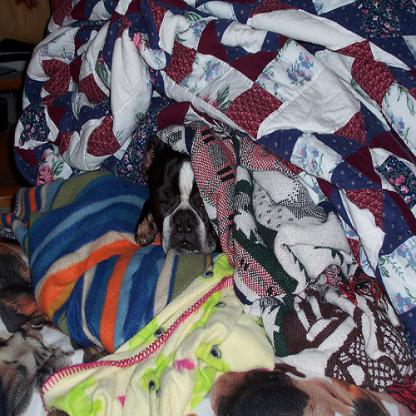dog: (134, 132, 223, 256)
